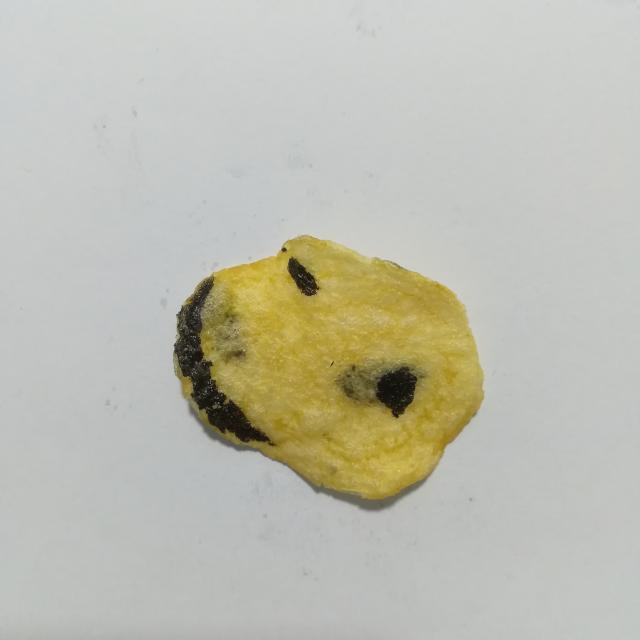chip: (174, 236, 483, 499)
damaged: (174, 277, 275, 446), (376, 366, 417, 418), (288, 257, 319, 296), (281, 246, 287, 252)
semi-damaged: (336, 360, 427, 414), (201, 285, 246, 360), (330, 361, 334, 367)
